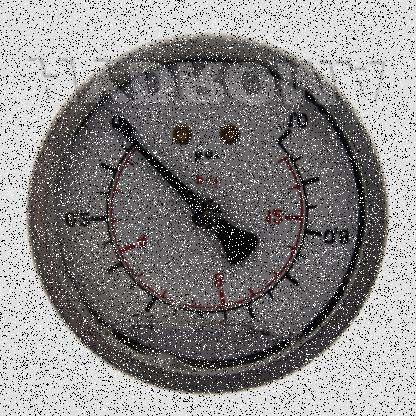needle: (114, 123, 205, 211)
